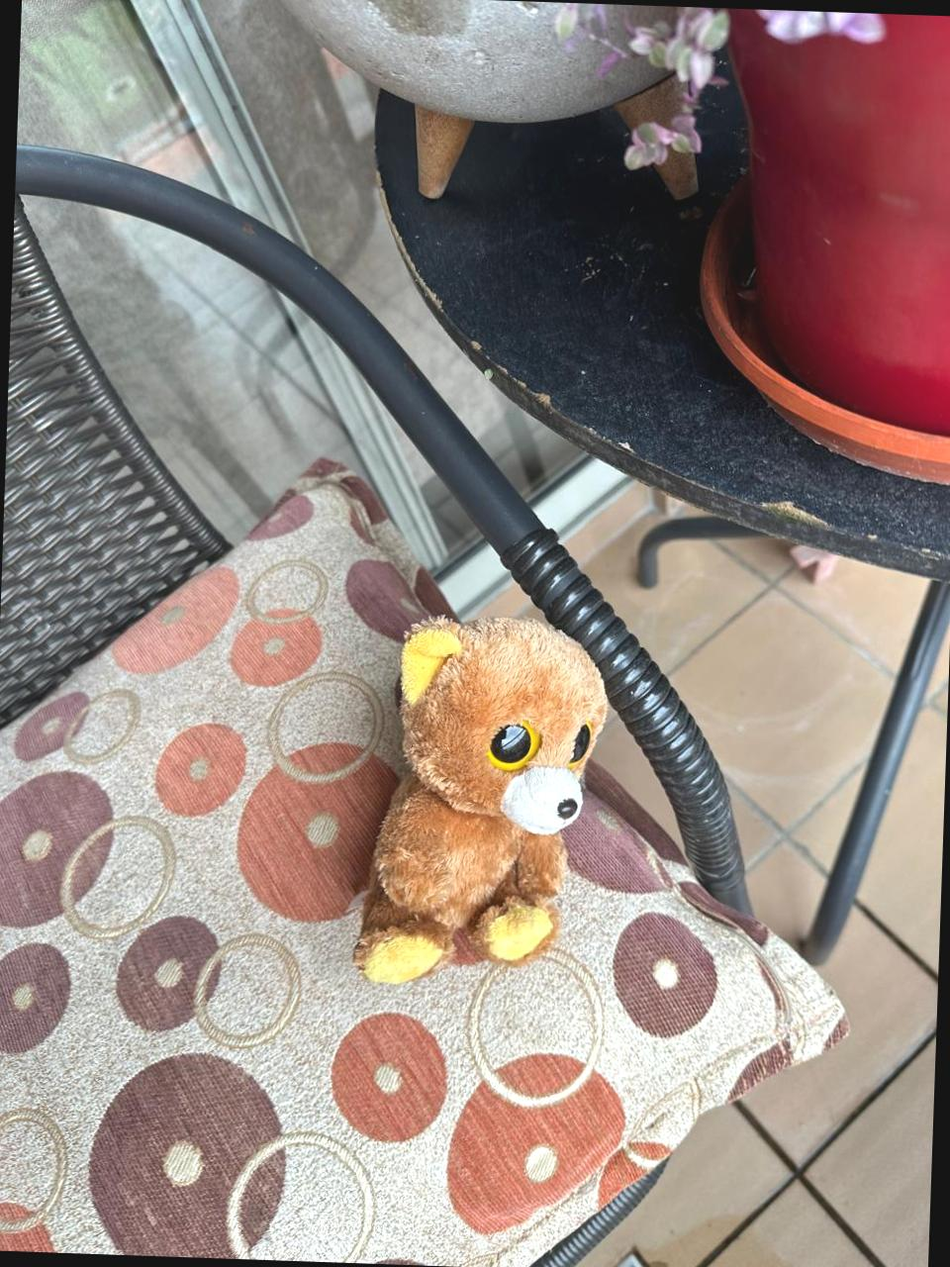peluche_sebastian: (349, 612, 614, 992)
